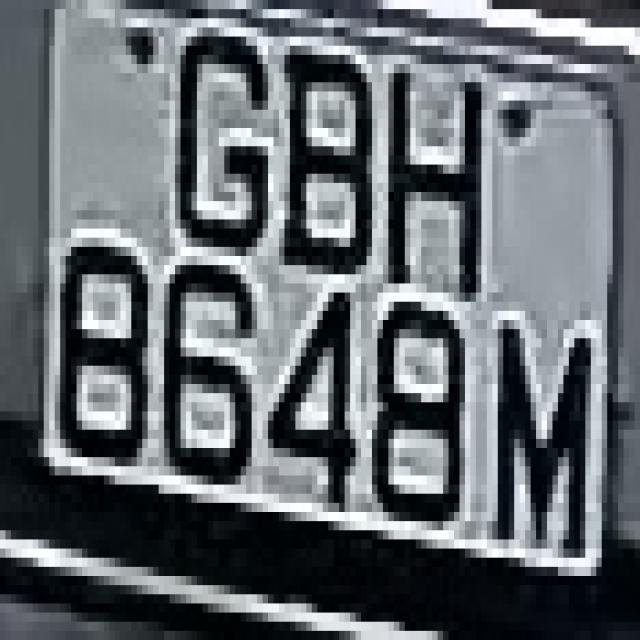4: (263, 247, 361, 512)
6: (142, 238, 263, 484)
8: (366, 265, 476, 549), (60, 210, 159, 476)
B: (257, 55, 372, 274)
G: (159, 28, 290, 274)
H: (377, 37, 487, 329)
M: (487, 284, 596, 612)
